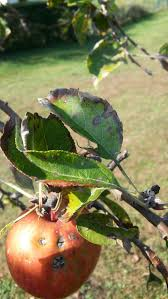damaged_apple: (5, 198, 104, 299)
